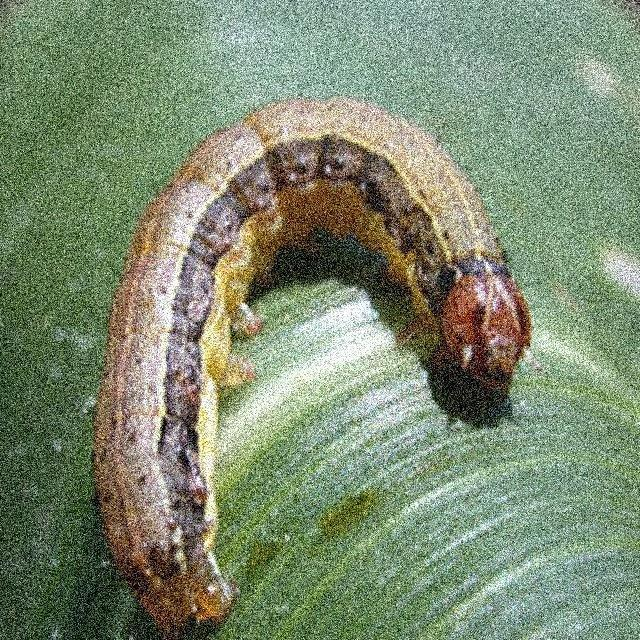gusano_cogollero: (88, 93, 534, 639)
